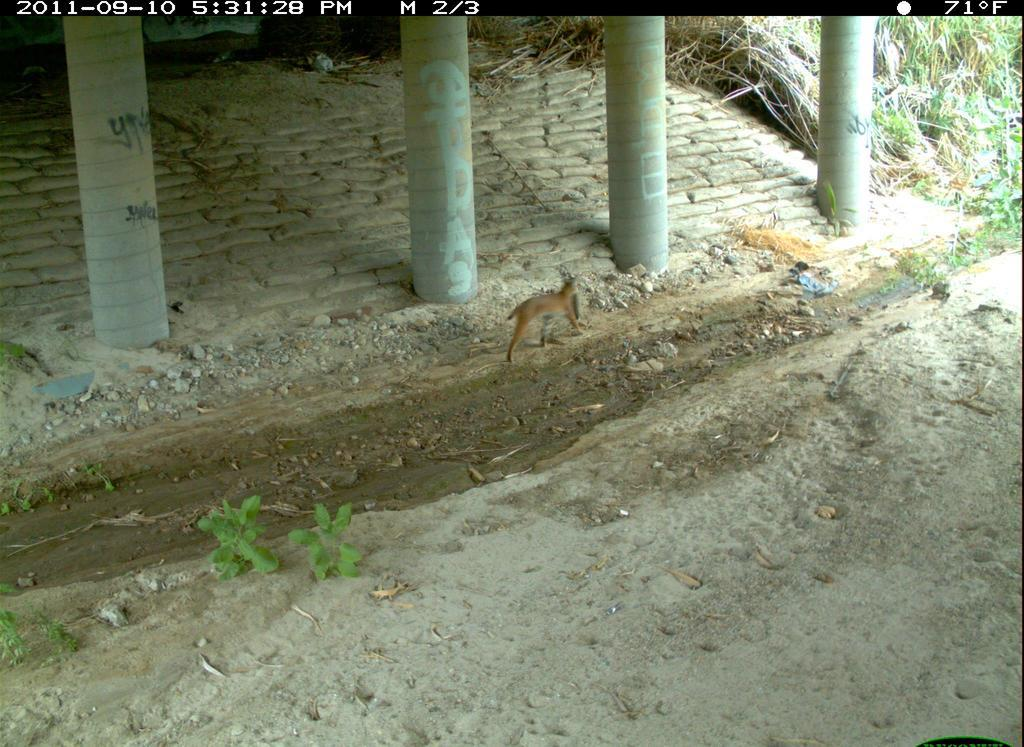bobcat: (998, 537, 1024, 740)
